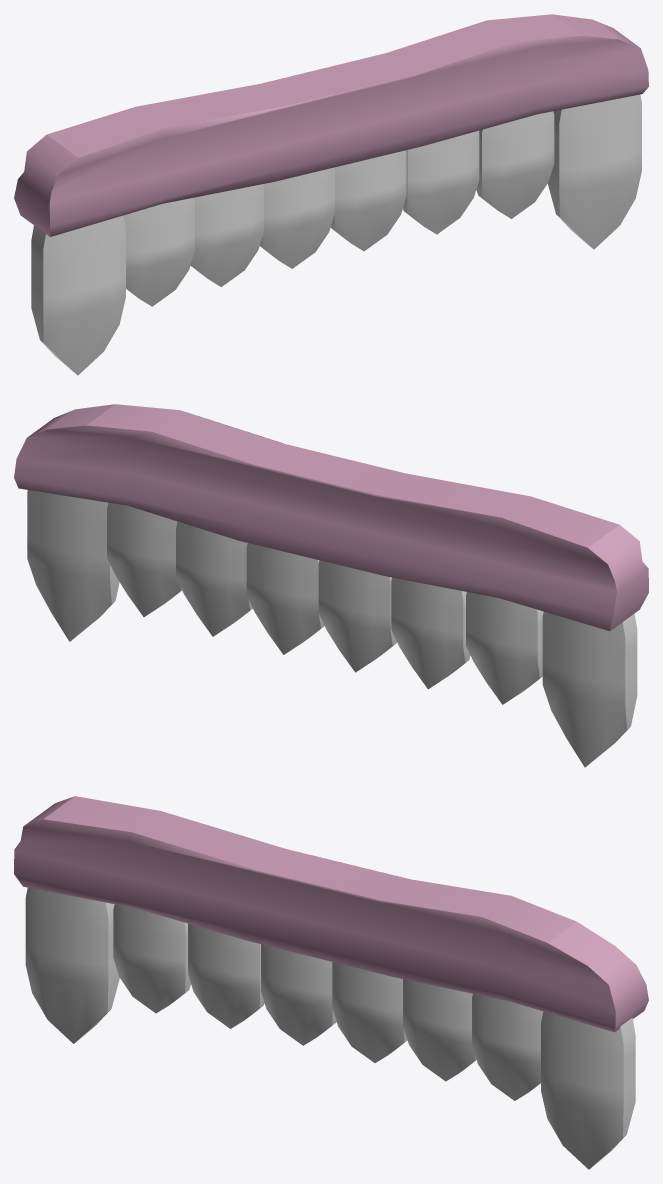
The model's file is VampireDentition.fbx.
3 views of the same model, one above another, from view 1: azimuth 30°, elevation 25°; view 2: azimuth 150°, elevation 25°; view 3: azimuth 330°, elevation 25° (orthographic).
Visible parts, largest first — view 1: pCube2; view 2: pCube2; view 3: pCube2.
Part boxes in pixels (<box>): pCube2: <box>14,14,648,375</box>; pCube2: <box>14,404,648,767</box>; pCube2: <box>14,796,648,1169</box>.
Size of the model in its own units: 6.19 by 2.37 by 0.6418.
